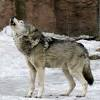Lobo: (4, 5, 83, 95)
